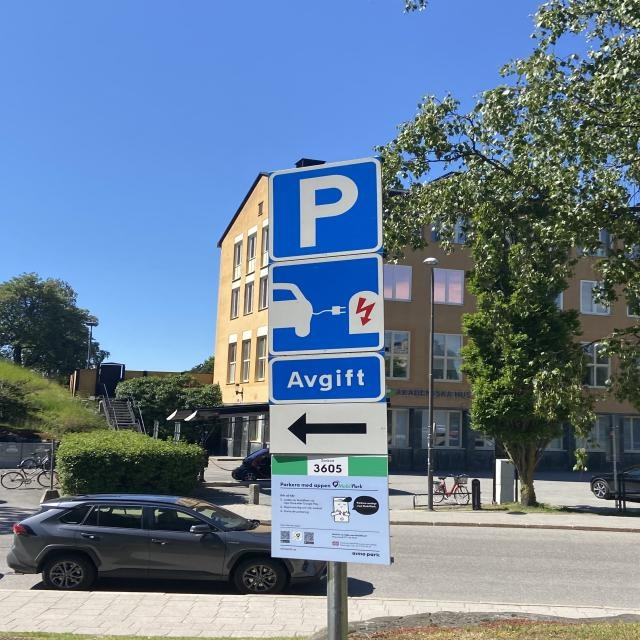P-skylt: (264, 155, 384, 261)
